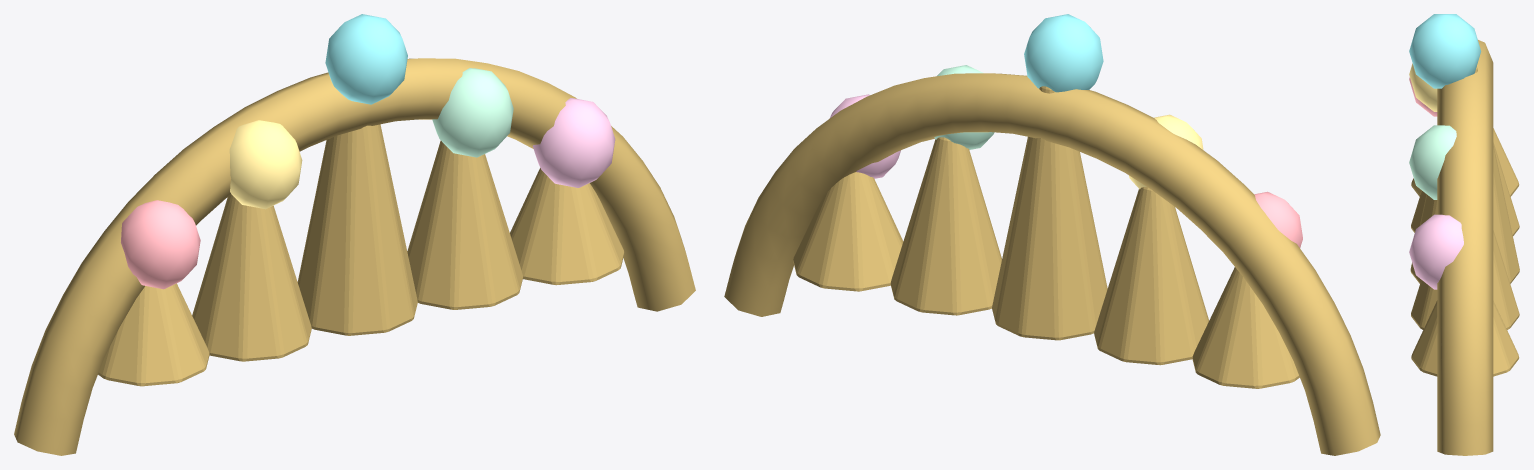
Rendered from pearl_keepsake_tiara.glb.
The picture shows the model from 3 angles, left to right: view 1: azimuth 30°, elevation 25°; view 2: azimuth 150°, elevation 25°; view 3: azimuth 270°, elevation 25°; orthographic projection. The views are drawn at different scales.
Visible parts, largest first — view 1: pearl_keepsake_tiara.001; view 2: pearl_keepsake_tiara.001; view 3: pearl_keepsake_tiara.001.
Boxes of the visible parts, box(x1,y1,x2,y2) form: pearl_keepsake_tiara.001: box(14, 14, 695, 455); pearl_keepsake_tiara.001: box(724, 14, 1380, 455); pearl_keepsake_tiara.001: box(1409, 14, 1519, 455).
Size of the model in its own units: 3.32 by 1.73 by 0.5526.
